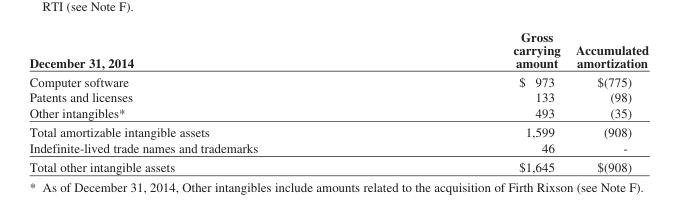table: (28, 28, 648, 174)
table column: (28, 28, 384, 174), (384, 28, 567, 174), (567, 28, 648, 174)
table column header: (28, 28, 648, 71)
table row: (28, 28, 648, 71), (28, 71, 648, 89), (28, 104, 648, 122), (28, 139, 648, 157), (28, 122, 648, 139), (28, 157, 648, 174), (28, 89, 648, 104)
